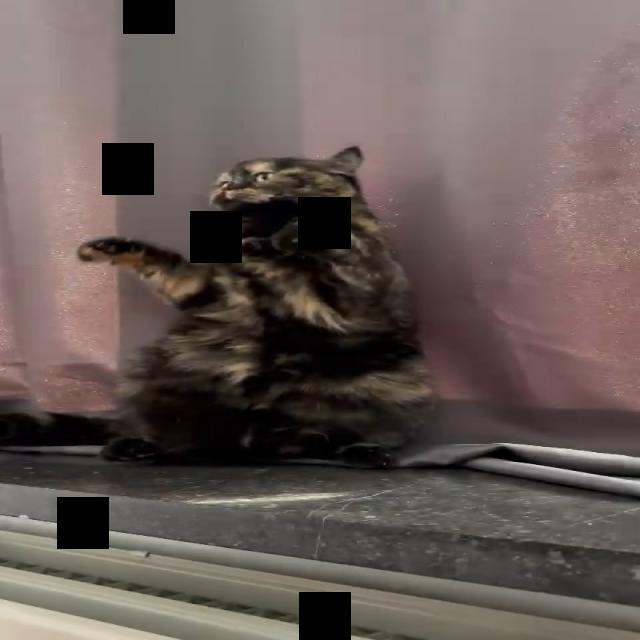authorized: (75, 144, 436, 469)
